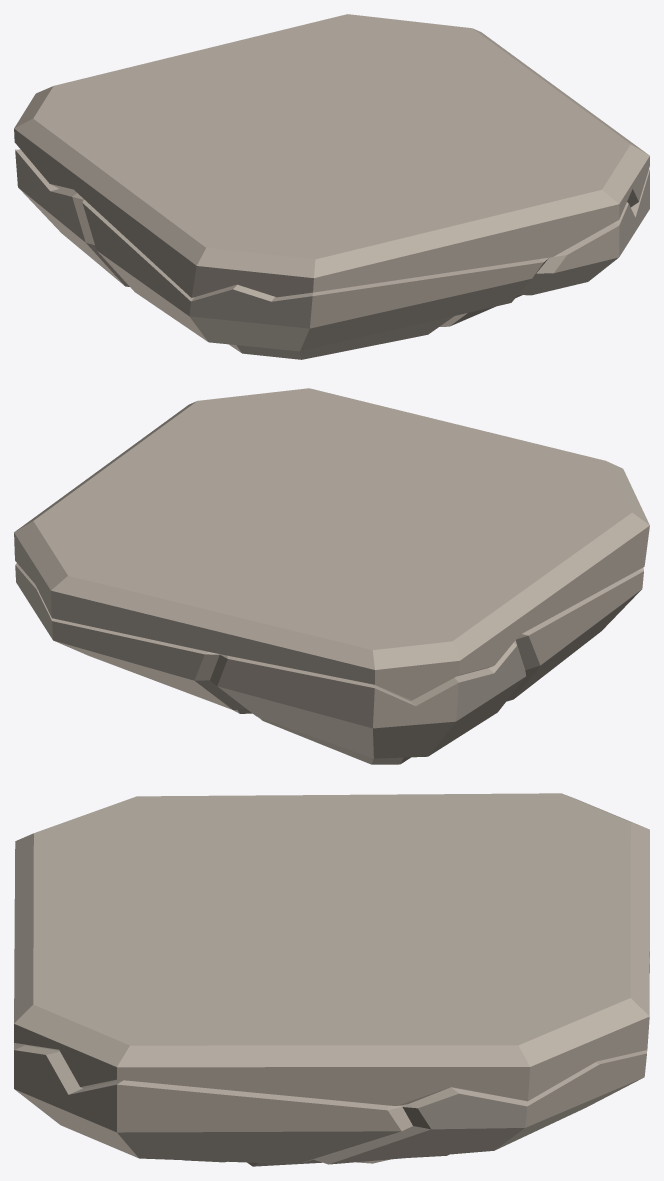
The model's file is platformdeff 1.fbx.
3 renders of one model, top to bottom at view 1: azimuth 30°, elevation 25°; view 2: azimuth 150°, elevation 25°; view 3: azimuth 270°, elevation 25°, orthographic. The views are drawn at different scales.
Visible parts, largest first — view 1: Cube.002; view 2: Cube.002; view 3: Cube.002.
Part boxes in pixels (box(x1,y1,x2,y2)): Cube.002: box(14, 14, 649, 359); Cube.002: box(14, 388, 649, 764); Cube.002: box(14, 793, 649, 1166).
Size of the model in its own units: 2509 by 1033 by 2508.
